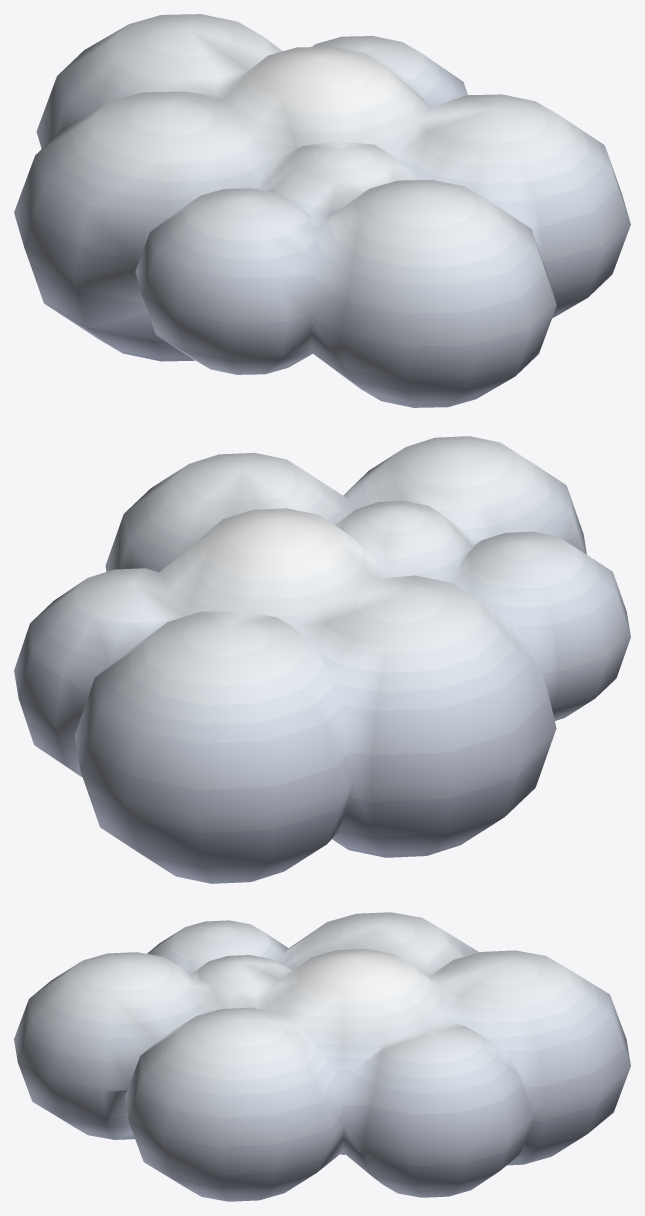
Rendered from AR_Animal_NinetailFox_Cloud.FBX.
The picture shows the model from 3 angles, top to bottom: view 1: azimuth 30°, elevation 25°; view 2: azimuth 150°, elevation 25°; view 3: azimuth 270°, elevation 25°; orthographic projection. The views are drawn at different scales.
Visible parts, largest first — view 1: AR_Animal_NinetailFox_Cloud; view 2: AR_Animal_NinetailFox_Cloud; view 3: AR_Animal_NinetailFox_Cloud.
Boxes of the visible parts, box(x1,y1,x2,y2) form: AR_Animal_NinetailFox_Cloud: box(14, 14, 630, 407); AR_Animal_NinetailFox_Cloud: box(14, 436, 630, 883); AR_Animal_NinetailFox_Cloud: box(14, 912, 630, 1201).
Bounding box in the file's own units: 36.61 × 18.91 × 48.85.
